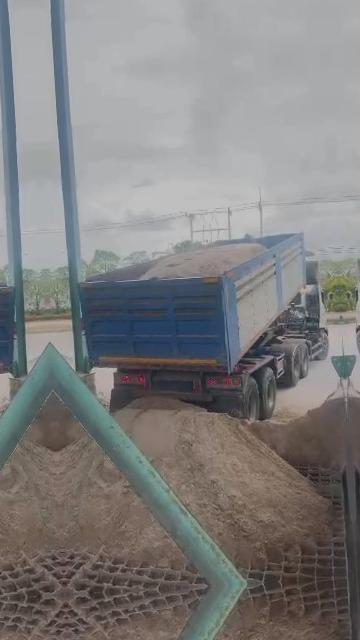sand: (117, 399, 330, 568), (56, 436, 183, 565), (251, 392, 345, 467), (141, 243, 265, 279), (52, 391, 83, 450)
